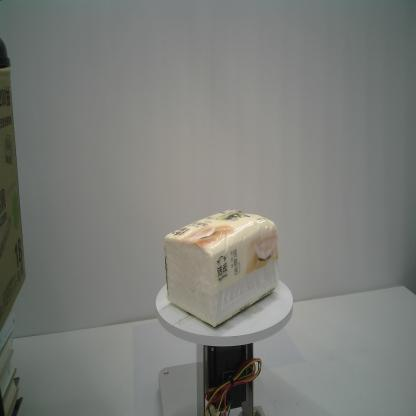Tissue: (164, 210, 280, 328)
